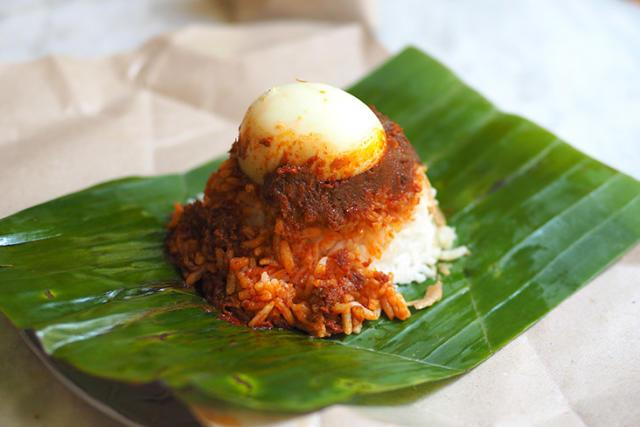Boiled-Egg: (234, 84, 386, 185)
Rice: (165, 105, 468, 337)
Sambal: (169, 105, 415, 315)
